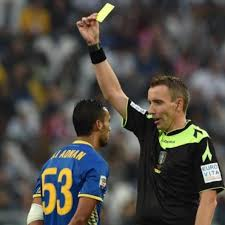yellow_card: (69, 1, 116, 43)
